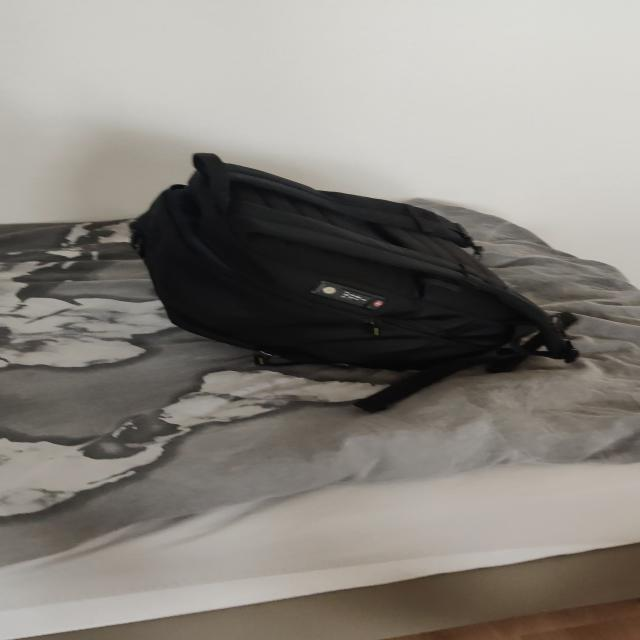backpack: (116, 144, 574, 406)
